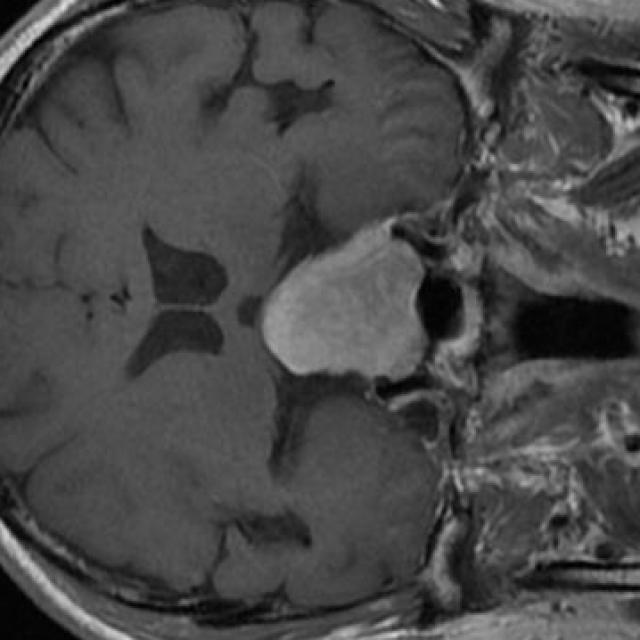pituitary: (262, 228, 428, 382)
